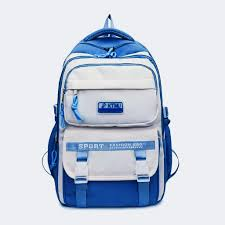bag: (53, 17, 176, 205)
